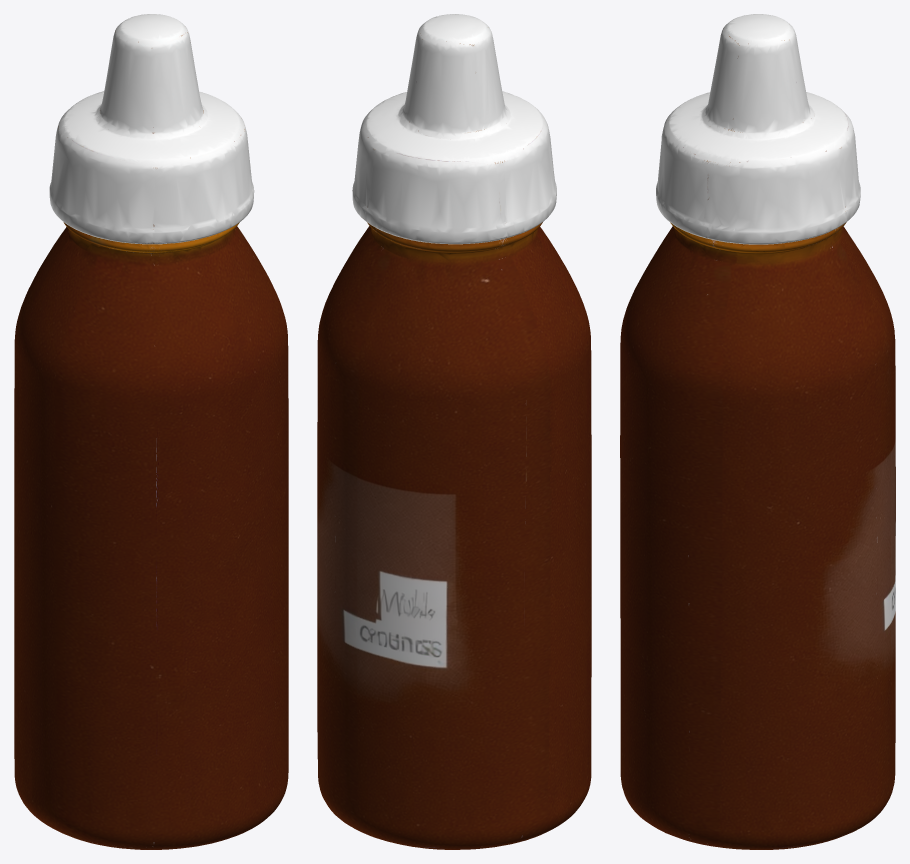
File: cold-sauce.glb
3 renders of one model, left to right at view 1: azimuth 30°, elevation 25°; view 2: azimuth 150°, elevation 25°; view 3: azimuth 270°, elevation 25°, orthographic.
Parts seen in each view (by area): view 1: mesh; view 2: mesh; view 3: mesh.
Boxes of the visible parts, left/top/right/bottom form: mesh: left=14, top=14, right=288, bottom=849; mesh: left=317, top=14, right=591, bottom=849; mesh: left=620, top=14, right=895, bottom=849.
Bounding box in the file's own units: 0.6382 × 2 × 0.6426.
1 material, 1 textured.
